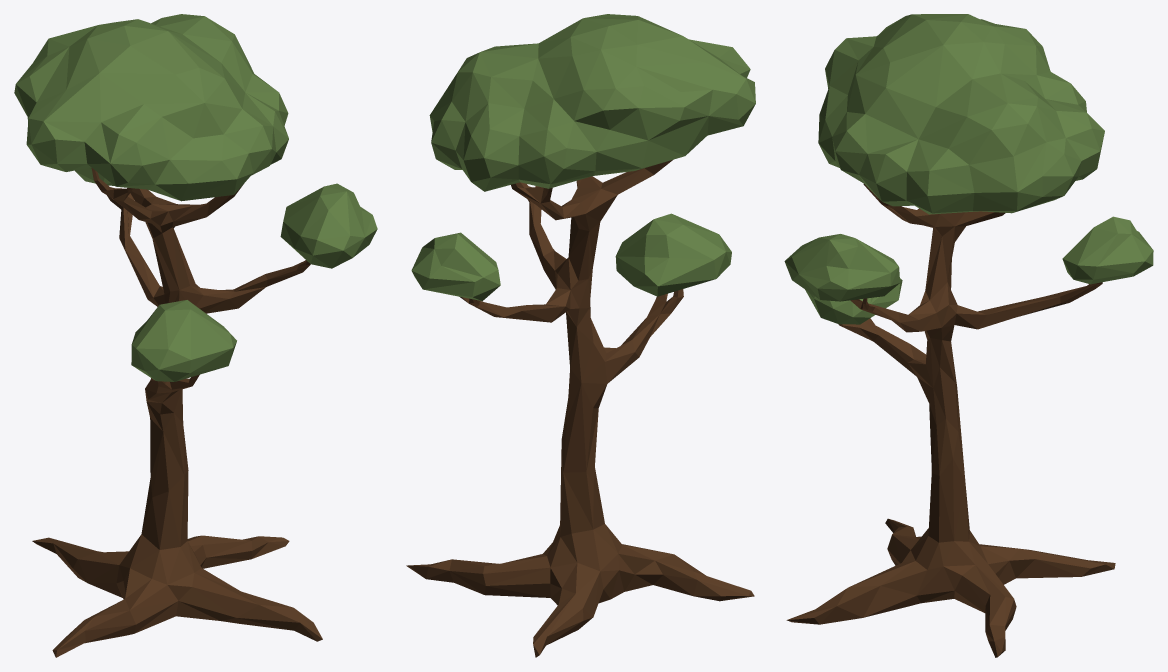
Rendered from OakTree.fbx.
The picture shows the model from 3 angles, left to right: view 1: azimuth 30°, elevation 25°; view 2: azimuth 150°, elevation 25°; view 3: azimuth 270°, elevation 25°; orthographic projection. The views are drawn at different scales.
Visible parts, largest first — view 1: OakTree_LOD0; view 2: OakTree_LOD0; view 3: OakTree_LOD0.
Part boxes in pixels (bbox=[...]): OakTree_LOD0: bbox=[14, 14, 377, 657]; OakTree_LOD0: bbox=[406, 14, 755, 657]; OakTree_LOD0: bbox=[784, 14, 1153, 657].
Size of what is drawn, in the model's own units: 230 by 419 by 252.
